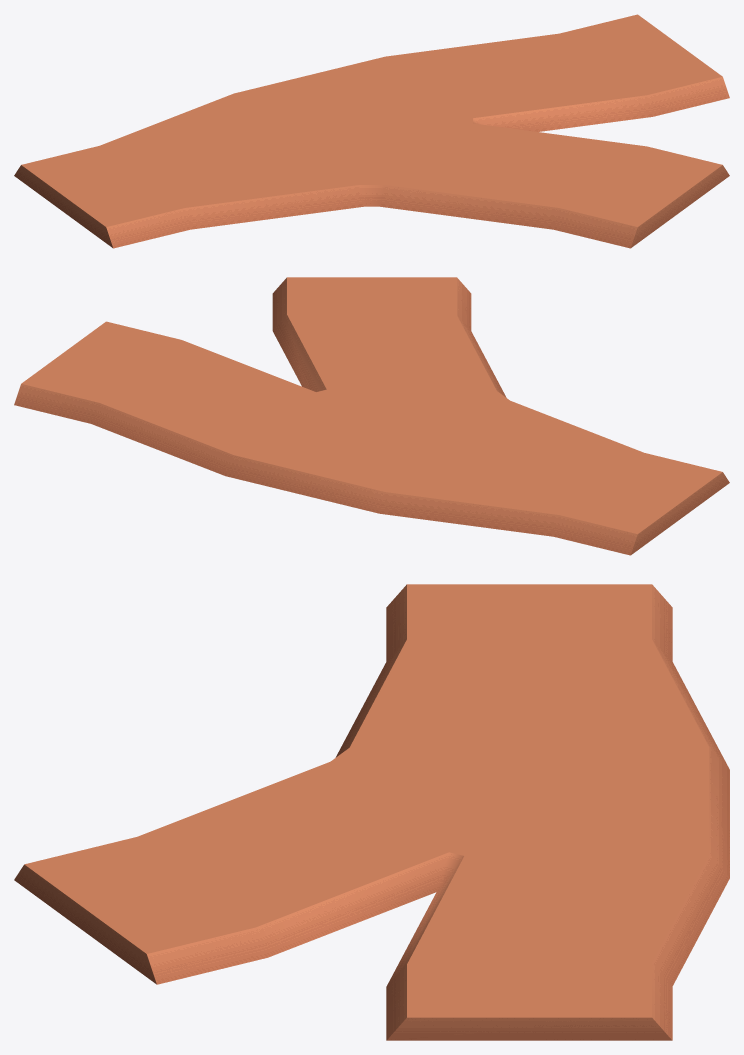
The model's file is path-intersectionC.glb.
3 renders of one model, top to bottom at view 1: azimuth 30°, elevation 25°; view 2: azimuth 150°, elevation 25°; view 3: azimuth 270°, elevation 25°, orthographic. The views are drawn at different scales.
Parts seen in each view (by area): view 1: path-intersectionC; view 2: path-intersectionC; view 3: path-intersectionC.
Part boxes in pixels (<box>): path-intersectionC: <box>14,14,729,248</box>; path-intersectionC: <box>14,277,729,555</box>; path-intersectionC: <box>14,584,729,1040</box>.
Size of the model in its own units: 1 by 0.025 by 0.6983.
Materials: 1 (1 with a texture image).
